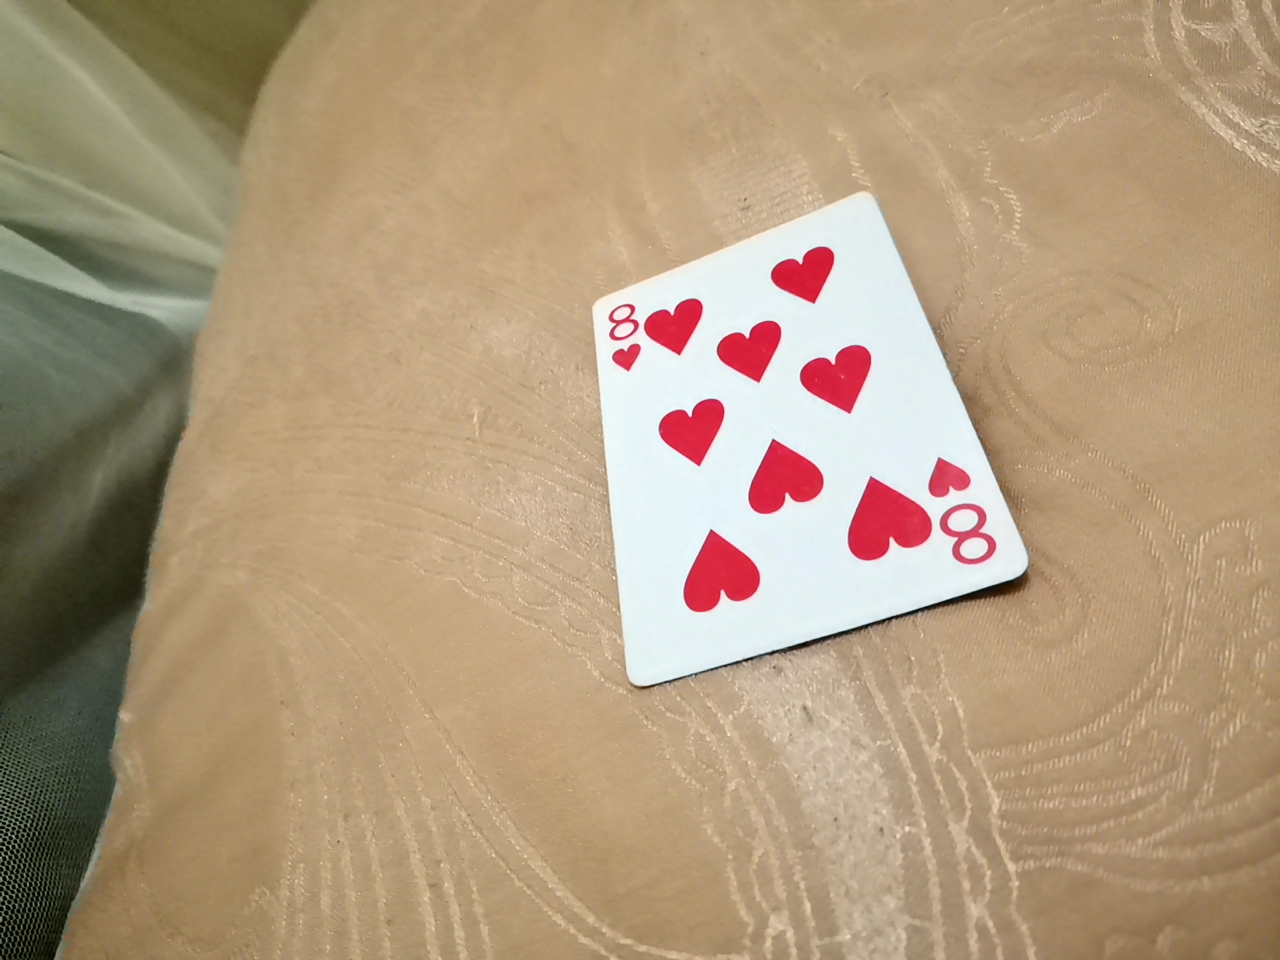hx 8: (592, 192, 1014, 693)
